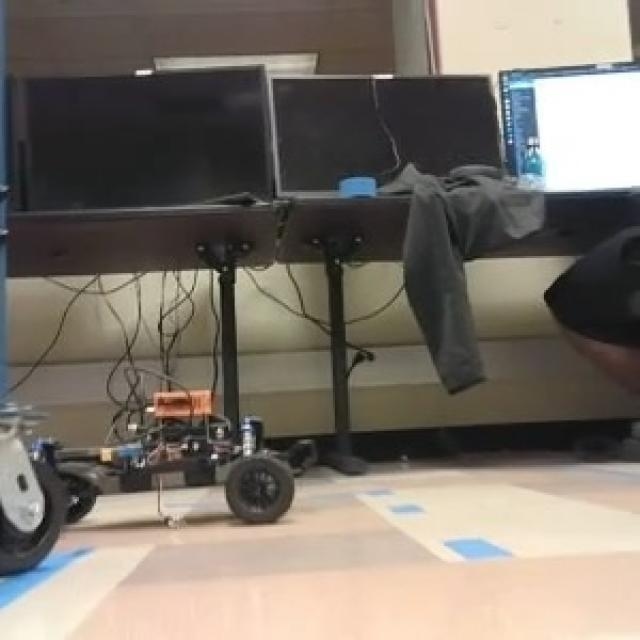obstacle: (61, 390, 288, 518)
